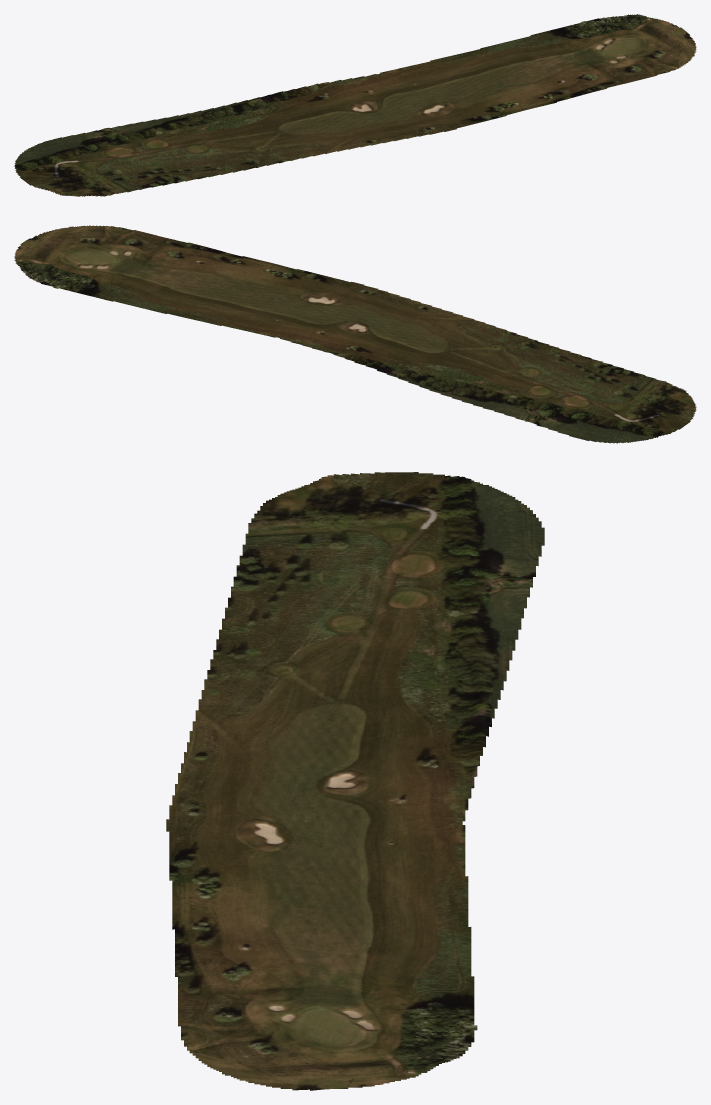
The model's file is elisefarm_2.glb.
The picture shows the model from 3 angles, top to bottom: view 1: azimuth 30°, elevation 25°; view 2: azimuth 150°, elevation 25°; view 3: azimuth 270°, elevation 25°; orthographic projection. The views are drawn at different scales.
Parts seen in each view (by area): view 1: ground; view 2: ground; view 3: ground.
Part boxes in pixels (x1,y1,x2,y2): ground: (14, 14, 696, 196); ground: (14, 225, 696, 443); ground: (166, 472, 544, 1090).
Bounding box in the file's own units: 507 × 6.43 × 129.
Materials: 1 (1 with a texture image).
